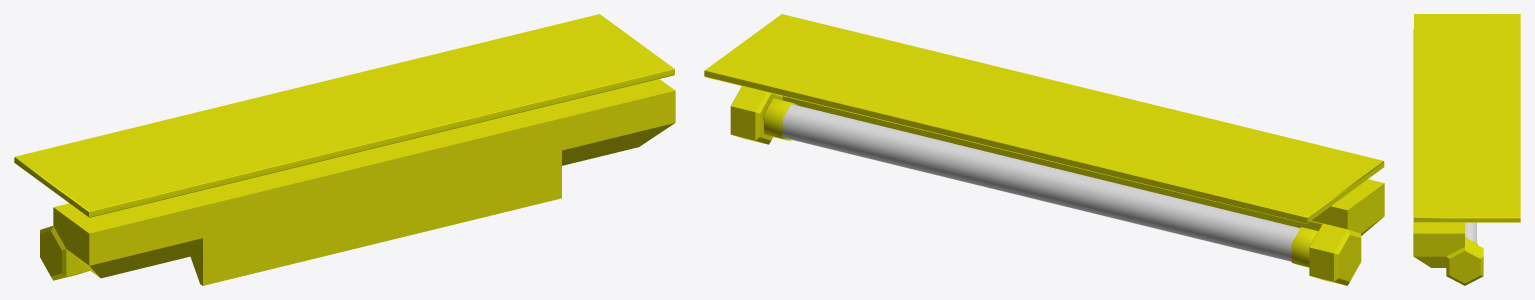
Rendered from WallLightA.fbx.
3 views of the same model, side by side, from view 1: azimuth 30°, elevation 25°; view 2: azimuth 150°, elevation 25°; view 3: azimuth 270°, elevation 25° (orthographic). The views are drawn at different scales.
Visible parts, largest first — view 1: WallLightA; view 2: WallLightA; view 3: WallLightA.
Part boxes in pixels (x1,y1,x2,y2): WallLightA: (14, 14, 675, 285); WallLightA: (704, 14, 1384, 285); WallLightA: (1413, 14, 1520, 285).
Size of the model in its own units: 104 by 17.15 by 22.86.
